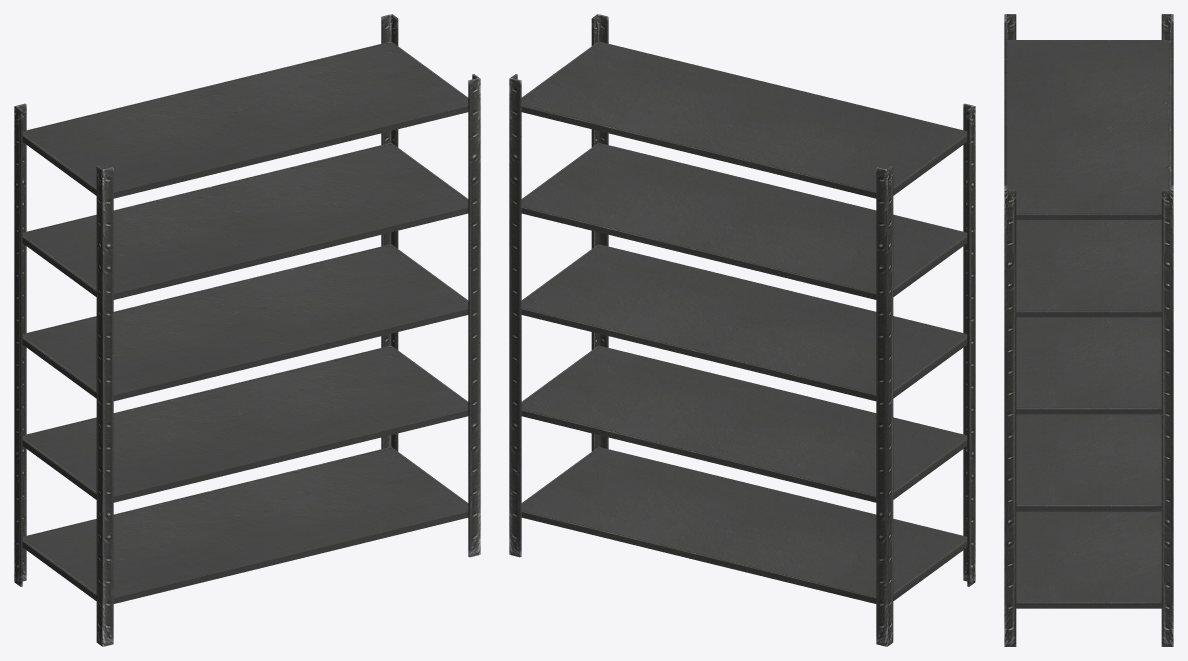
File: Storage.FBX
3 renders of one model, left to right at view 1: azimuth 30°, elevation 25°; view 2: azimuth 150°, elevation 25°; view 3: azimuth 270°, elevation 25°, orthographic. The views are drawn at different scales.
Parts seen in each view (by area): view 1: Storage; view 2: Storage; view 3: Storage.
Part boxes in pixels (x1,y1,x2,y2): Storage: [14, 14, 480, 646]; Storage: [509, 14, 975, 646]; Storage: [1004, 14, 1173, 646].
Bounding box in the file's own units: 54.6 × 22.1 × 65.77.
